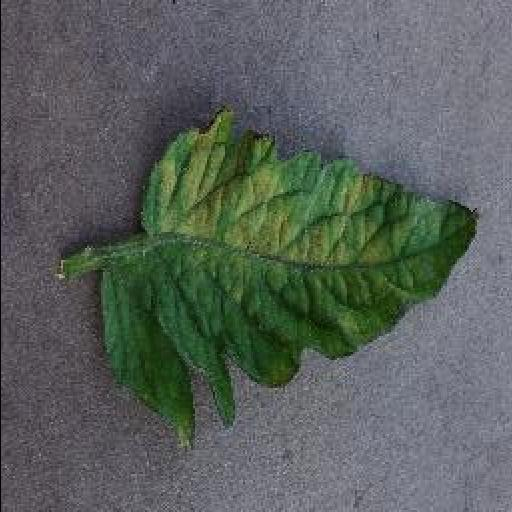disease_tomato: (94, 116, 482, 456)
